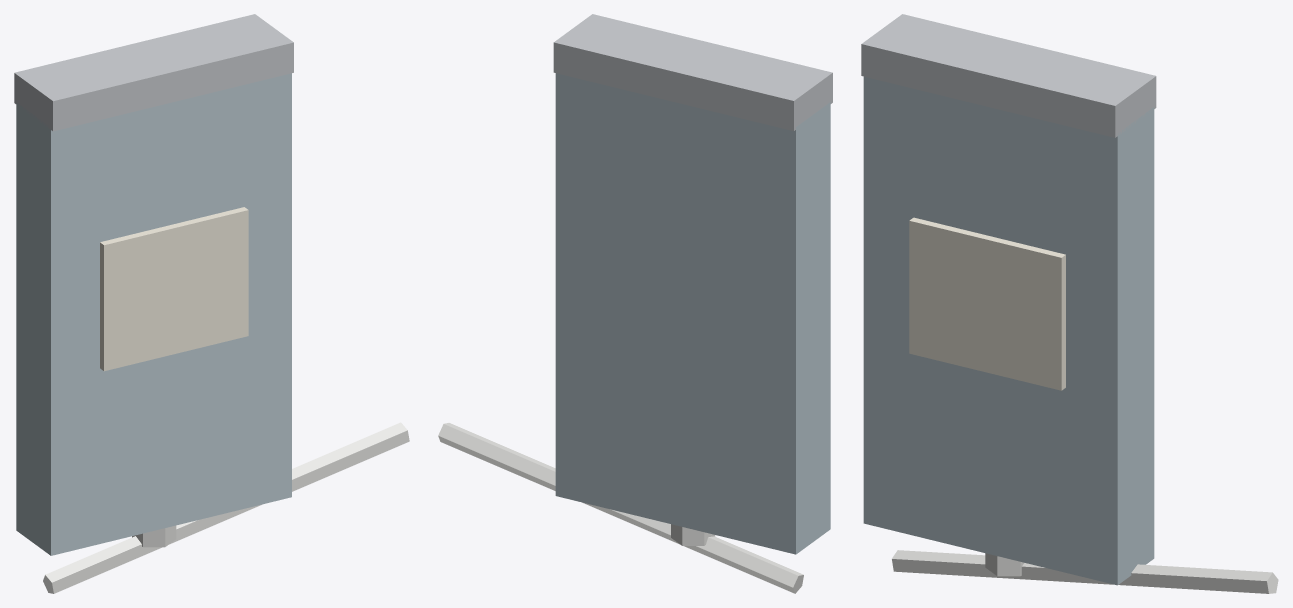
Rendered from soro.glb.
3 views of the same model, side by side, from view 1: azimuth 30°, elevation 25°; view 2: azimuth 150°, elevation 25°; view 3: azimuth 330°, elevation 25° (orthographic). The views are drawn at different scales.
Parts seen in each view (by area): view 1: soro; view 2: soro; view 3: soro.
Boxes of the visible parts, left/top/right/bottom form: soro: left=14, top=14, right=409, bottom=593; soro: left=438, top=14, right=832, bottom=593; soro: left=861, top=14, right=1278, bottom=593.
Bounding box in the file's own units: 0.1545 × 0.2028 × 0.03.
